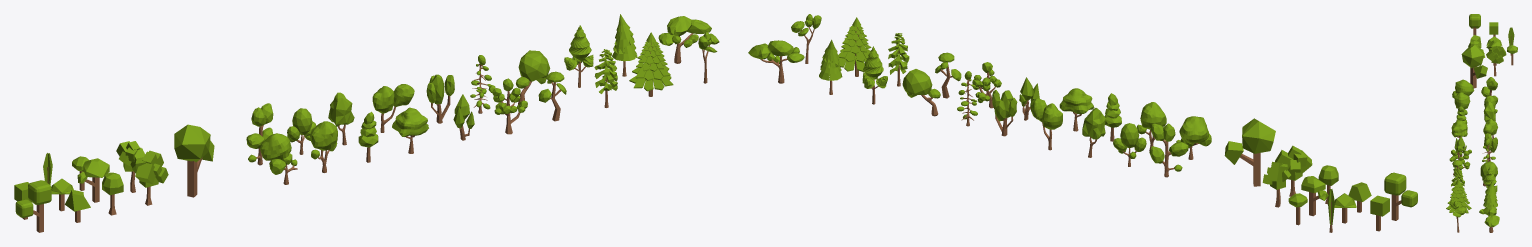
The model's file is trees2 (1).glb.
3 renders of one model, left to right at view 1: azimuth 30°, elevation 25°; view 2: azimuth 150°, elevation 25°; view 3: azimuth 270°, elevation 25°, orthographic. The views are drawn at different scales.
Parts seen in each view (by area): view 1: Cube.018, Plane.005, TREE 5.001, TREE 9.001, Cube.002, Cube.008, Icosphere.003, TREE 12.001, Sphere.001, Plane.013, TREE 3.001, TREE 11.001 (+16 smaller); view 2: Cube.018, Plane.005, TREE 11.001, TREE 5.001, Cube.002, Plane.013, Icosphere.003, TREE 9.001, Cube.008, TREE 12.001, TREE 13.001, Circle.015 (+16 smaller); view 3: Cube.018, Plane.005, TREE 5.001, Plane.014, Sphere.001, TREE 9.001, TREE 15.004, Plane.021, TREE 11.001, TREE 3.001, Plane.013, Icosphere.003 (+17 smaller).
Boxes of the visible parts, bbox=[...] form: Cube.018: bbox=[174, 124, 214, 197]; Plane.005: bbox=[629, 32, 673, 96]; TREE 5.001: bbox=[658, 16, 711, 63]; TREE 9.001: bbox=[260, 133, 297, 184]; Cube.002: bbox=[15, 180, 51, 232]; Cube.008: bbox=[132, 150, 168, 205]; Icosphere.003: bbox=[516, 50, 550, 104]; TREE 12.001: bbox=[372, 84, 414, 132]; Sphere.001: bbox=[488, 78, 527, 134]; Plane.013: bbox=[72, 156, 109, 202]; TREE 3.001: bbox=[310, 121, 337, 172]; TREE 11.001: bbox=[246, 103, 273, 165]; Cube.018: bbox=[1224, 118, 1275, 186]; Plane.005: bbox=[838, 17, 871, 76]; TREE 11.001: bbox=[1149, 123, 1188, 177]; TREE 5.001: bbox=[748, 40, 804, 83]; Cube.002: bbox=[1384, 172, 1417, 220]; Plane.013: bbox=[1288, 176, 1328, 225]; Icosphere.003: bbox=[902, 69, 940, 116]; TREE 9.001: bbox=[1176, 116, 1211, 159]; Cube.008: bbox=[1275, 145, 1312, 196]; TREE 12.001: bbox=[1030, 98, 1062, 150]; TREE 13.001: bbox=[992, 90, 1017, 136]; Circle.015: bbox=[862, 46, 887, 104]; Cube.018: bbox=[1461, 44, 1487, 88]; Plane.005: bbox=[1446, 179, 1471, 213]; TREE 5.001: bbox=[1479, 206, 1499, 232]; Plane.014: bbox=[1486, 46, 1506, 76]; Sphere.001: bbox=[1449, 145, 1471, 174]; TREE 9.001: bbox=[1452, 79, 1474, 98]; TREE 15.004: bbox=[1483, 180, 1497, 207]; Plane.021: bbox=[1451, 120, 1467, 137]; TREE 11.001: bbox=[1481, 77, 1497, 104]; TREE 3.001: bbox=[1454, 92, 1470, 115]; Plane.013: bbox=[1486, 39, 1517, 65]; Icosphere.003: bbox=[1480, 161, 1497, 186].
Size of the model in its own units: 26.69 by 2.58 by 3.96.
